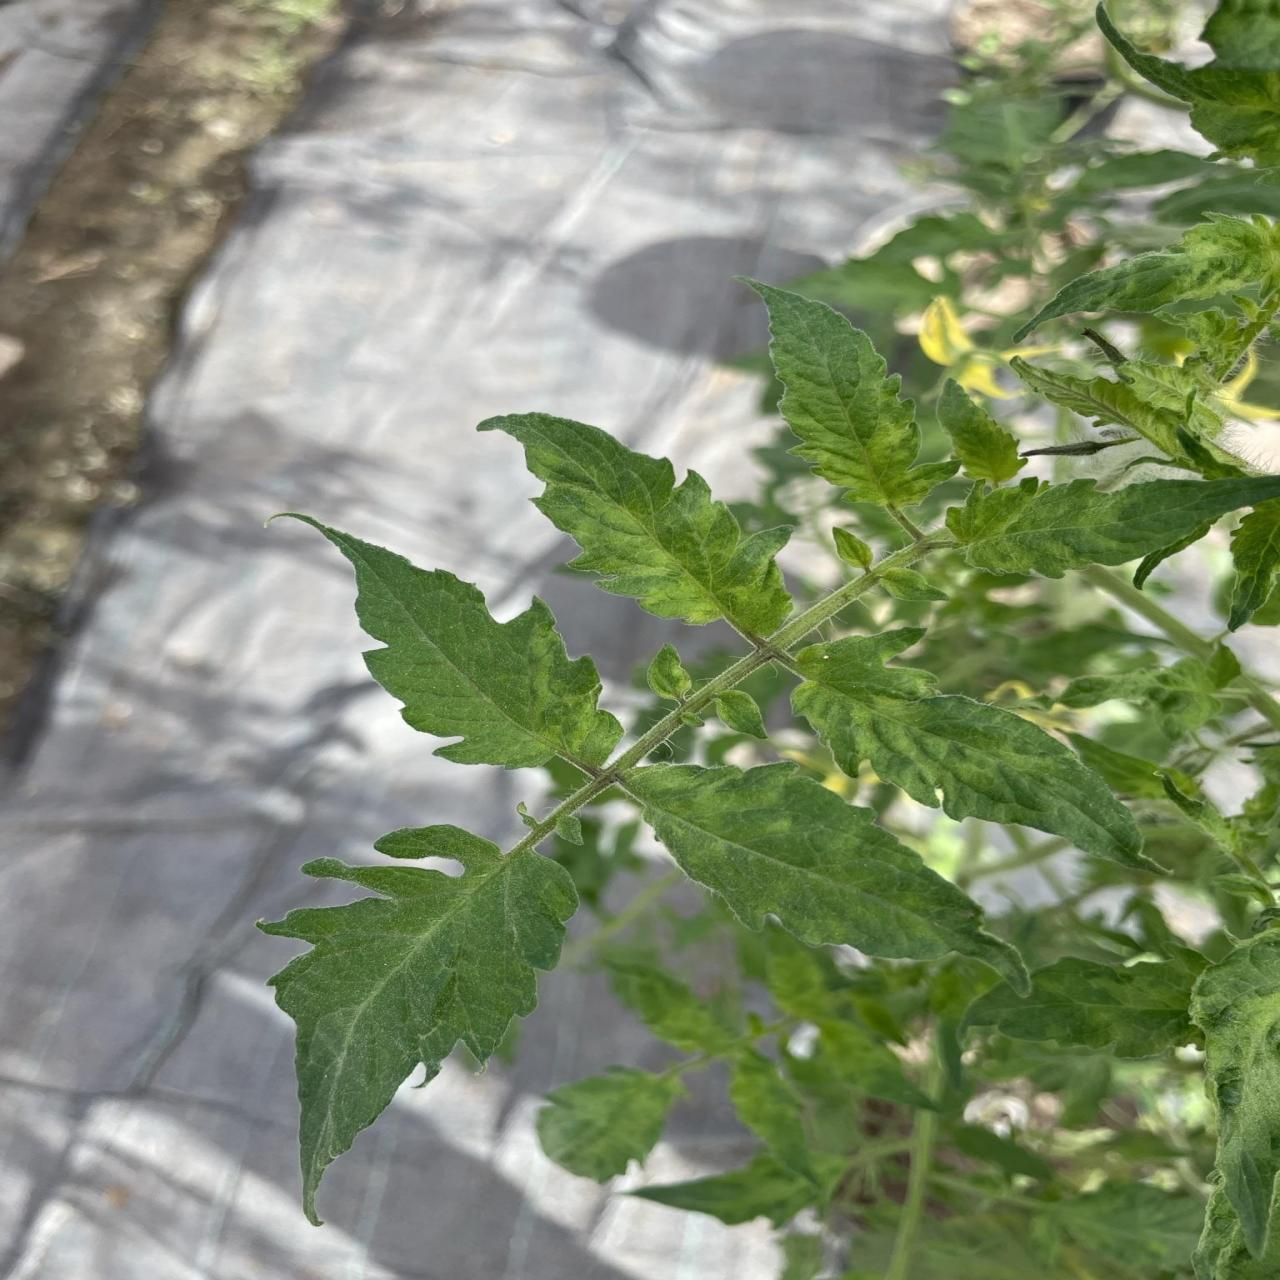T_L_R: (261, 826, 578, 1221), (624, 764, 1028, 989), (794, 631, 1158, 871), (298, 513, 626, 774), (481, 414, 794, 639), (751, 284, 958, 539), (948, 479, 1278, 579)
T_S_R: (518, 531, 954, 851)
